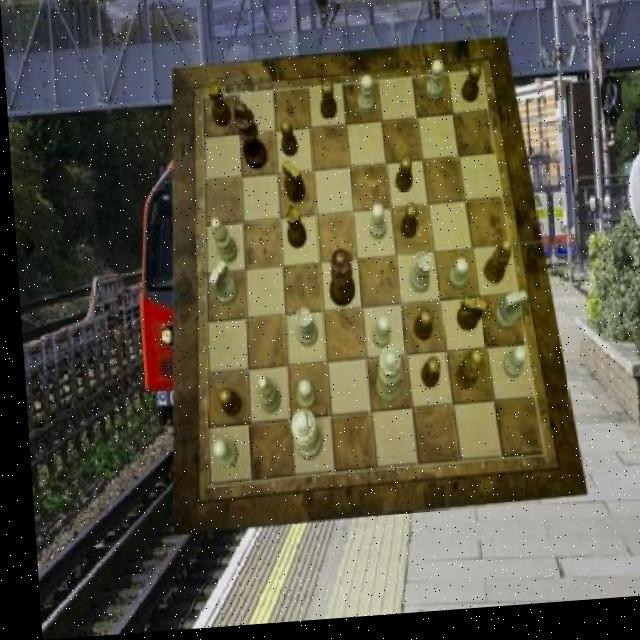bishop: (477, 247, 509, 293), (449, 357, 478, 397)
black-bishop: (229, 104, 265, 175)
black-king: (452, 302, 484, 338), (278, 163, 302, 208)
black-knight: (458, 71, 481, 110), (391, 161, 412, 198), (414, 362, 436, 396), (407, 316, 429, 350), (396, 209, 415, 246), (277, 122, 295, 161), (317, 86, 335, 125), (212, 391, 236, 420)
black-pawn: (322, 253, 351, 313)
black-queen: (205, 83, 230, 130), (282, 208, 303, 253)
black-rook: (207, 220, 234, 267), (250, 379, 275, 419)
white-bishop: (282, 412, 316, 465)
white-king: (204, 263, 234, 310), (488, 297, 524, 336)
white-knight: (497, 352, 523, 386), (423, 67, 444, 108), (353, 82, 372, 123), (366, 320, 387, 355), (206, 442, 231, 471), (443, 264, 464, 297), (365, 208, 383, 245), (290, 383, 309, 415)
white-pawn: (368, 352, 398, 410)
white-queen: (403, 258, 429, 301), (290, 312, 313, 352)
